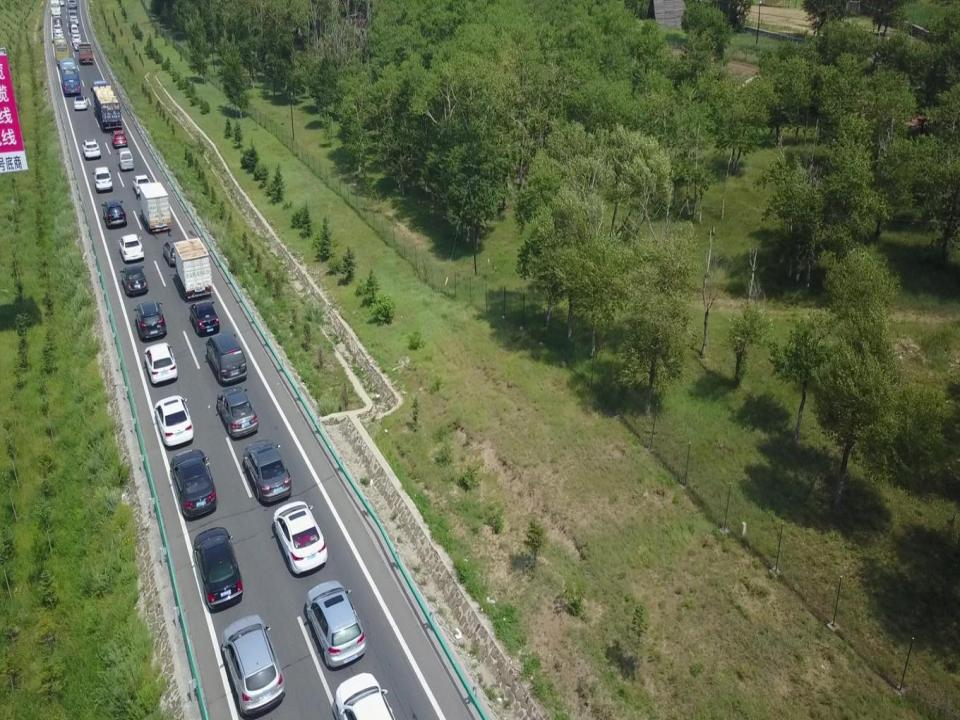bus: (59, 57, 80, 94), (52, 38, 69, 65), (50, 0, 62, 15)
car: (222, 615, 284, 717), (306, 582, 366, 668), (192, 527, 244, 609), (273, 501, 328, 574), (170, 448, 218, 519), (332, 672, 396, 720), (242, 441, 292, 502), (217, 385, 258, 439), (154, 395, 194, 445), (143, 342, 178, 383), (132, 299, 166, 340), (188, 300, 220, 335), (119, 264, 149, 296), (101, 198, 127, 228), (117, 233, 144, 261), (162, 240, 188, 266), (92, 167, 112, 192), (82, 138, 101, 159), (132, 174, 150, 196), (110, 129, 128, 149), (74, 95, 88, 110), (52, 23, 62, 35), (54, 30, 64, 41), (71, 35, 81, 45), (72, 30, 81, 40), (68, 21, 77, 31), (67, 0, 78, 8), (74, 40, 82, 51), (53, 13, 62, 22), (68, 6, 77, 15), (54, 15, 61, 26), (70, 16, 78, 25)
truck: (174, 238, 213, 299), (90, 79, 122, 133), (138, 182, 172, 231), (77, 42, 92, 65)
van: (205, 330, 247, 384), (117, 147, 134, 170), (67, 9, 77, 21), (70, 23, 78, 35)
